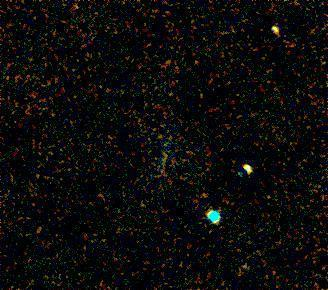star: (230, 254, 260, 284)
